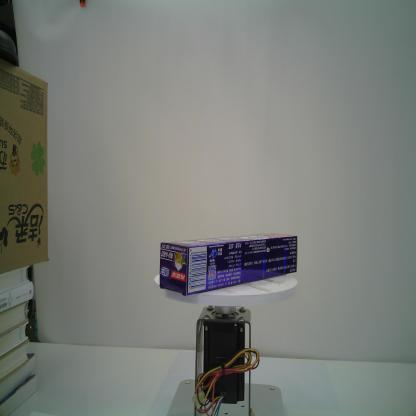Personal Hygiene: (158, 231, 299, 298)
